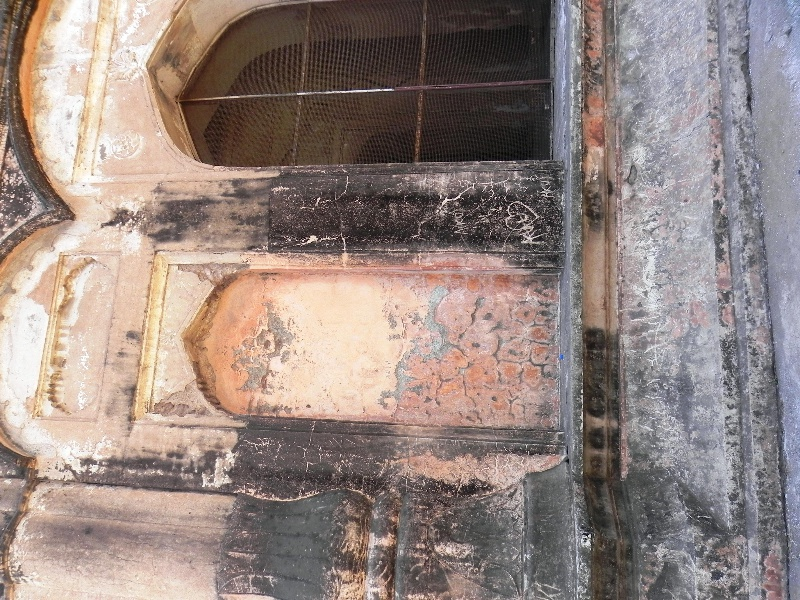Spalling: (187, 355, 229, 415)
